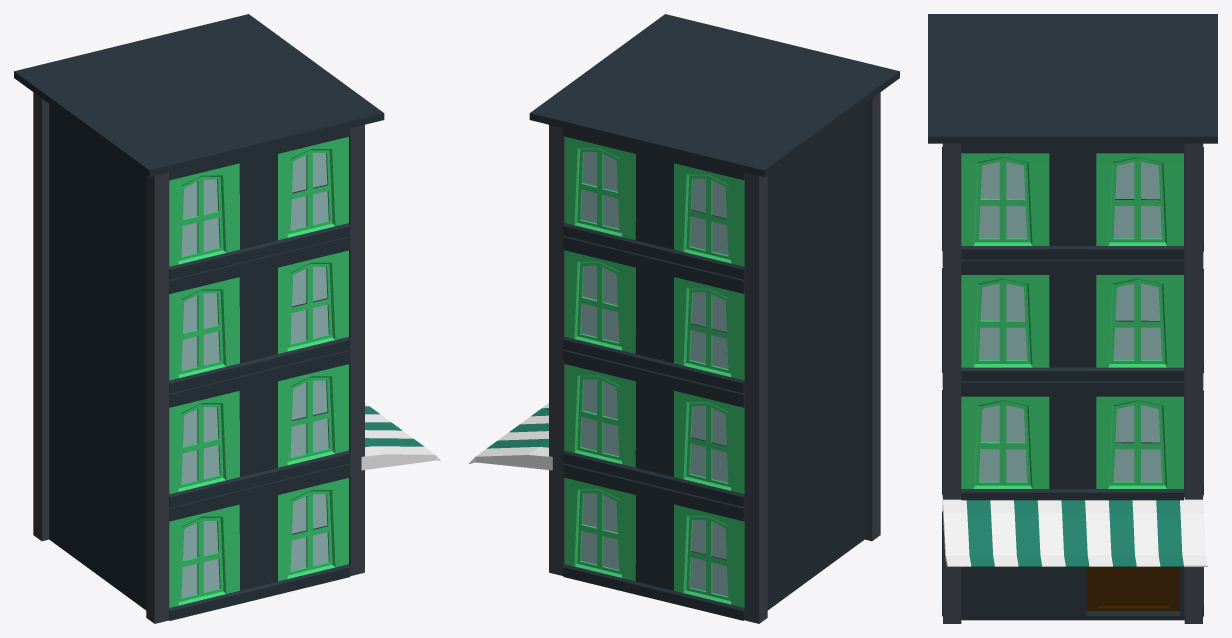
Rendered from buildings_2.fbx_4Story_-_Green.fbx.
The picture shows the model from 3 angles, left to right: view 1: azimuth 30°, elevation 25°; view 2: azimuth 150°, elevation 25°; view 3: azimuth 270°, elevation 25°; orthographic projection. The views are drawn at different scales.
Parts seen in each view (by area): view 1: 4Story - Green; view 2: 4Story - Green; view 3: 4Story - Green.
Boxes of the visible parts, box(x1,y1,x2,y2) form: 4Story - Green: box(14, 14, 440, 623); 4Story - Green: box(469, 14, 899, 623); 4Story - Green: box(928, 14, 1217, 623).
Size of the model in its own units: 1658 by 2437 by 1296.
